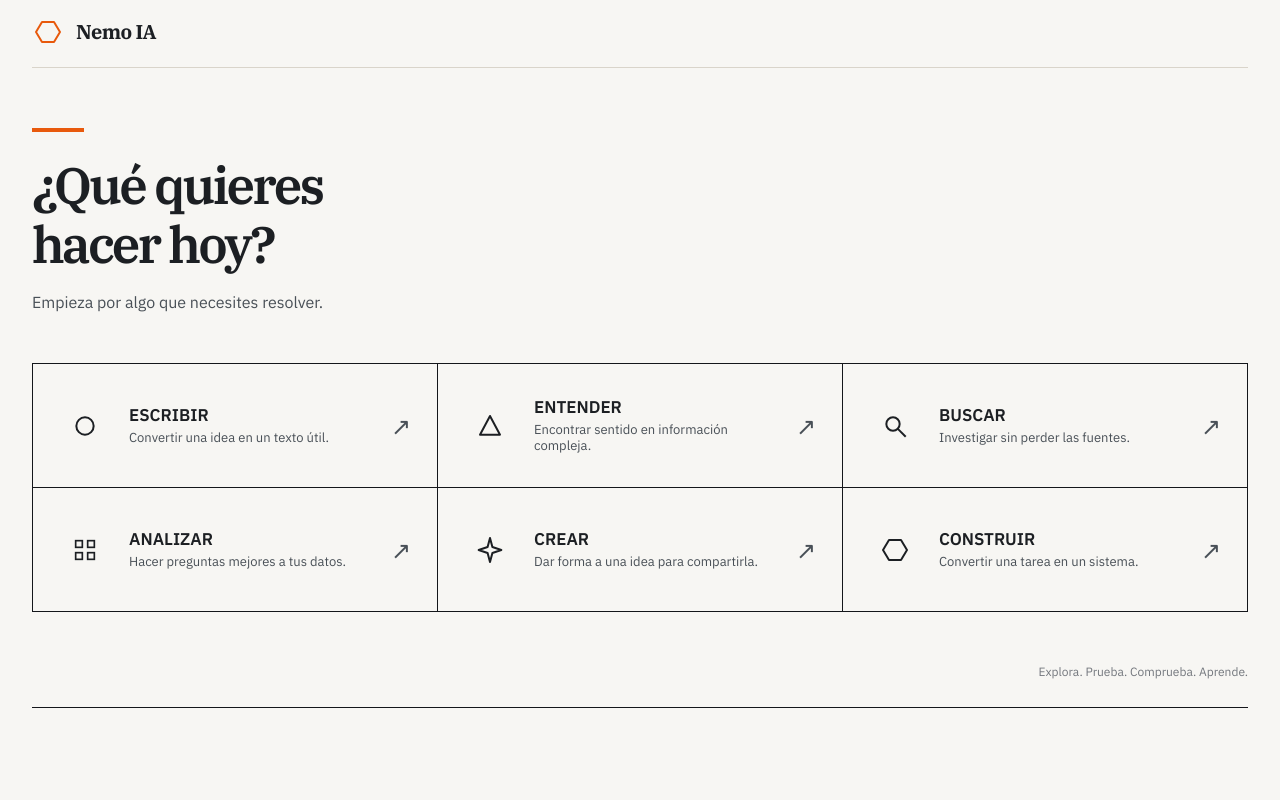
flujo principal de Nemo IA › adapta una instrucción al contexto profesional y ofrece una recomendación breve
Click the button "ESCRIBIR".
click(85, 426)  # box [33, 364, 438, 488]
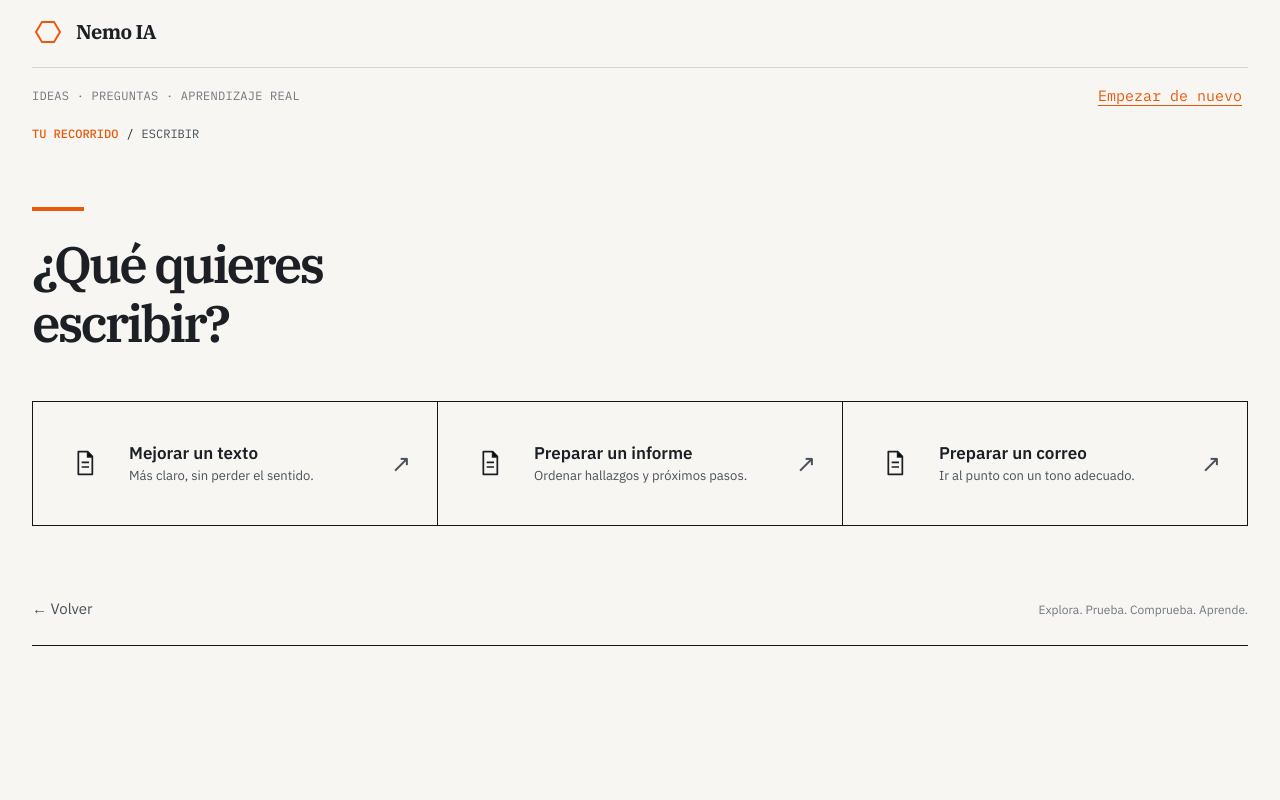
Click the button "Mejorar un texto Más claro, sin perder el sentido. ↗".
click(236, 464)  # box [33, 402, 438, 526]
(page scrolled)
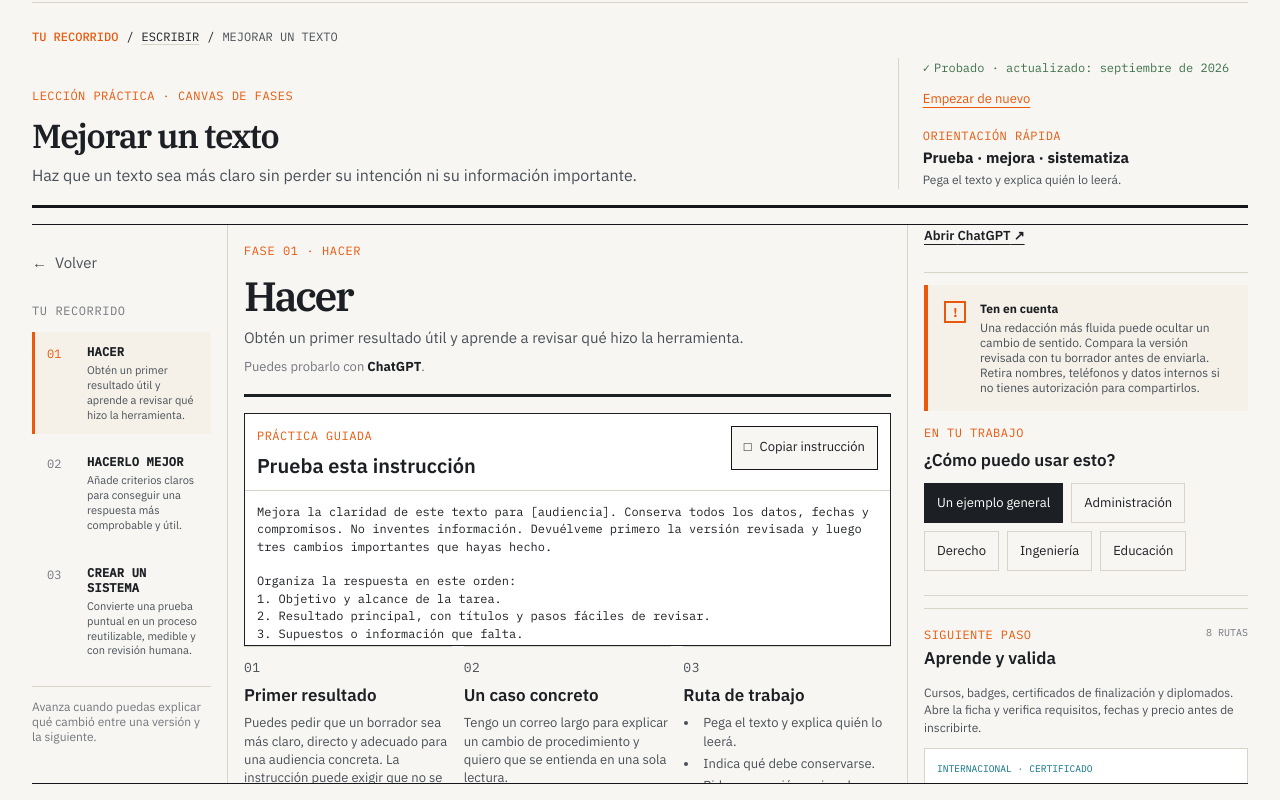
Click the button "Administración".
click(1128, 504)  # box [1071, 484, 1185, 524]
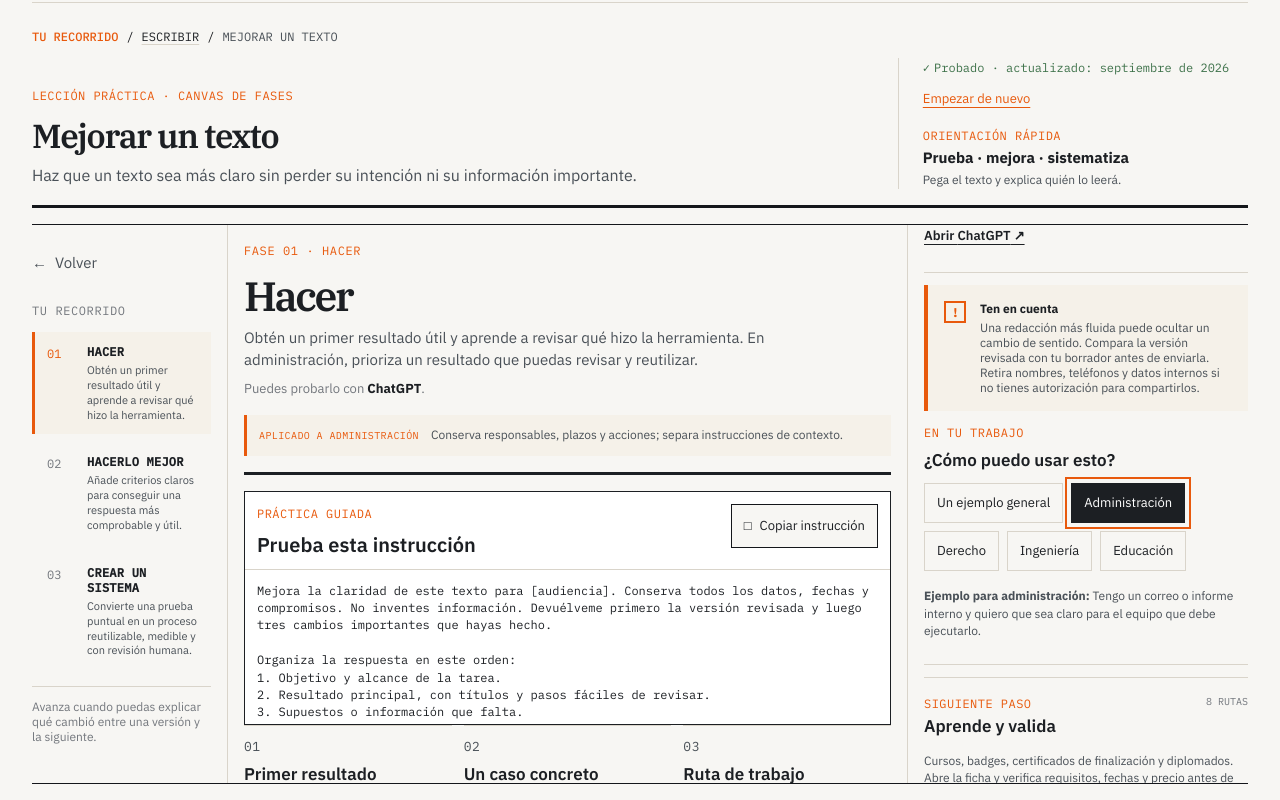
Expected: the text "Aplicado a Administración" is shown, [259, 428, 419, 444]
Click the button "CREAR UN SISTEMA".
click(122, 612)  # box [32, 553, 211, 670]
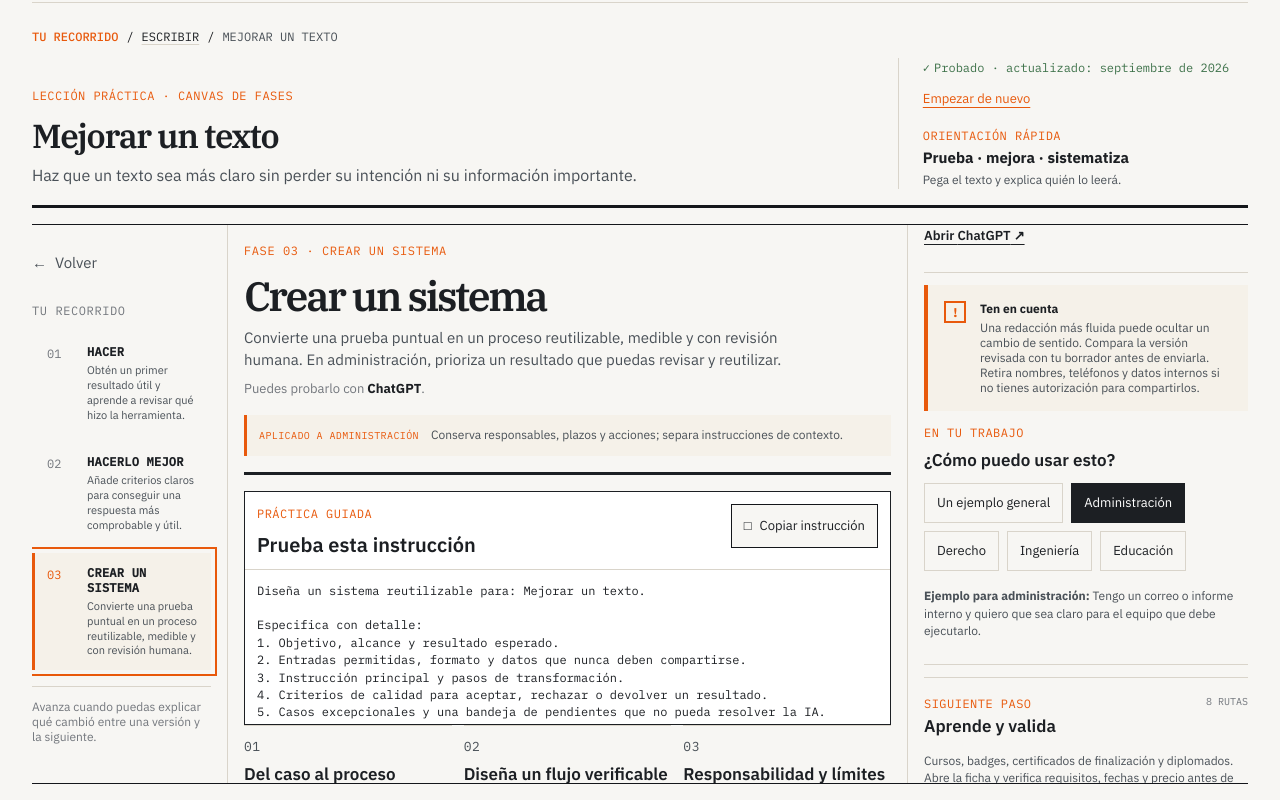
Expected: the text "Entradas permitidas, formato y datos que nunca deben compartirse" is shown, [257, 583, 876, 783]
